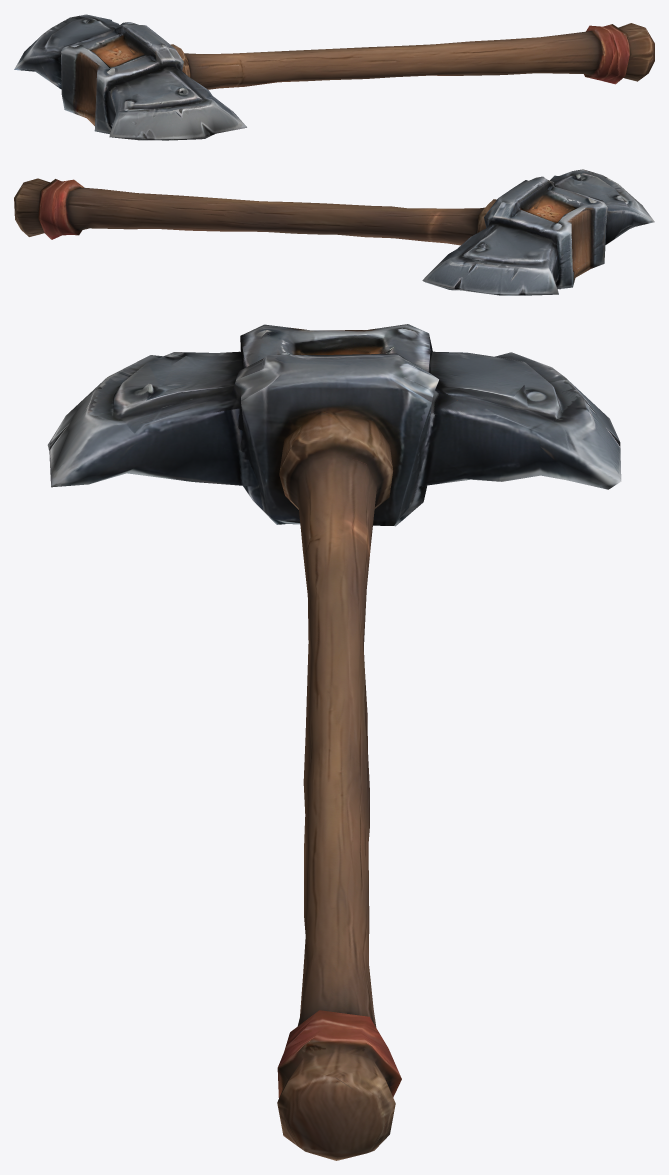
File: Gravewood Pickaxe.glb
3 renders of one model, top to bottom at view 1: azimuth 30°, elevation 25°; view 2: azimuth 150°, elevation 25°; view 3: azimuth 270°, elevation 25°, orthographic. The views are drawn at different scales.
Visible parts, largest first — view 1: Mesh_0; view 2: Mesh_0; view 3: Mesh_0.
Part boxes in pixels (left/top/right/bottom): Mesh_0: left=14, top=14, right=654, bottom=140; Mesh_0: left=14, top=169, right=654, bottom=295; Mesh_0: left=47, top=324, right=621, bottom=1160.
Bounding box in the file's own units: 1.91 × 0.5157 × 0.813.
Materials: 1 (1 with a texture image).
